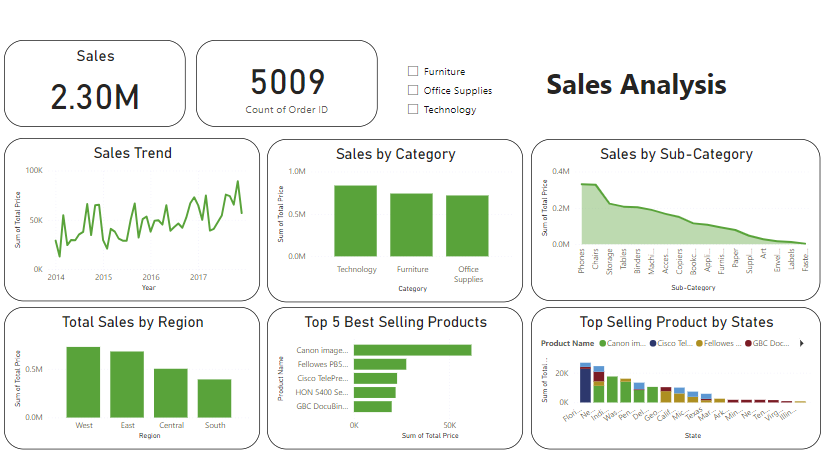

What the dashboard file says about the page in this screenshot:
{"tool":"powerbi","page":{"name":"Sales Analysis Page","canvas":[1280,720],"ordinal":1},"visuals":[{"type":"card","title":"Sales","fields":{"Values":["Sum(Sample - Superstore.Total Price)"]},"box":[15,75,278.3,133.3],"z":0},{"type":"lineChart","title":"Sales Trend","fields":{"Y":["Sum(Sample - Superstore.Total Price)"],"Category":["Sample - Superstore.Order Date.Variation.Date Hierarchy.Year","Sample - Superstore.Order Date.Variation.Date Hierarchy.Month"]},"box":[14.9,225.4,391.9,249.7],"z":1000},{"type":"columnChart","title":"Sales by Category","fields":{"Y":["Sum(Sample - Superstore.Total Price)"],"Category":["Sample - Superstore.Category"]},"box":[418.4,227,391.9,249.7],"z":2000},{"type":"stackedAreaChart","title":"Sales by Sub-Category","fields":{"Category":["Sample - Superstore.Sub-Category"],"Y":["Sum(Sample - Superstore.Total Price)"]},"box":[821.9,227,443.2,248.1],"z":3000},{"type":"columnChart","title":"Total Sales by Region","fields":{"Y":["Sum(Sample - Superstore.Total Price)"],"Category":["Sample - Superstore.Region"]},"box":[14.9,483.3,391.9,218.3],"z":4000},{"type":"clusteredBarChart","title":"Top 5 Best Selling Products","fields":{"Category":["Sample - Superstore.Product Name"],"Y":["Sum(Sample - Superstore.Total Price)"]},"box":[418.2,483.6,391.8,218.2],"z":5000},{"type":"slicer","fields":{"Values":["Sample - Superstore.Category"]},"box":[613.3,86.7,185,121.7],"z":6000},{"type":"columnChart","title":"Top Selling Product by States","fields":{"Category":["Sample - Superstore.State"],"Series":["Sample - Superstore.Product Name"],"Y":["Sum(Sample - Superstore.Total Price)"]},"box":[821.8,483.6,443.6,218.2],"z":7000},{"type":"card","fields":{"Values":["Count(Sample - Superstore.Order ID)"]},"box":[310,75,278.3,133.3],"z":8000},{"type":"textbox","box":[840,106.7,325,70],"z":9000}]}

Visuals, with their boxes in screenshot pixels (x1, y1, x2, y2), scaled from the page's 1280x720 canvas onto the 827x458 screenshot:
"Sales" card: [10, 48, 189, 133]
"Sales Trend" lineChart: [10, 143, 263, 302]
"Sales by Category" columnChart: [270, 144, 524, 303]
"Sales by Sub-Category" stackedAreaChart: [531, 144, 817, 302]
"Total Sales by Region" columnChart: [10, 307, 263, 446]
"Top 5 Best Selling Products" clusteredBarChart: [270, 308, 523, 446]
slicer - Sample - Superstore.Category: [396, 55, 516, 133]
"Top Selling Product by States" columnChart: [531, 308, 818, 446]
card - Count(Sample - Superstore.Order ID): [200, 48, 380, 133]
textbox: [543, 68, 753, 112]
